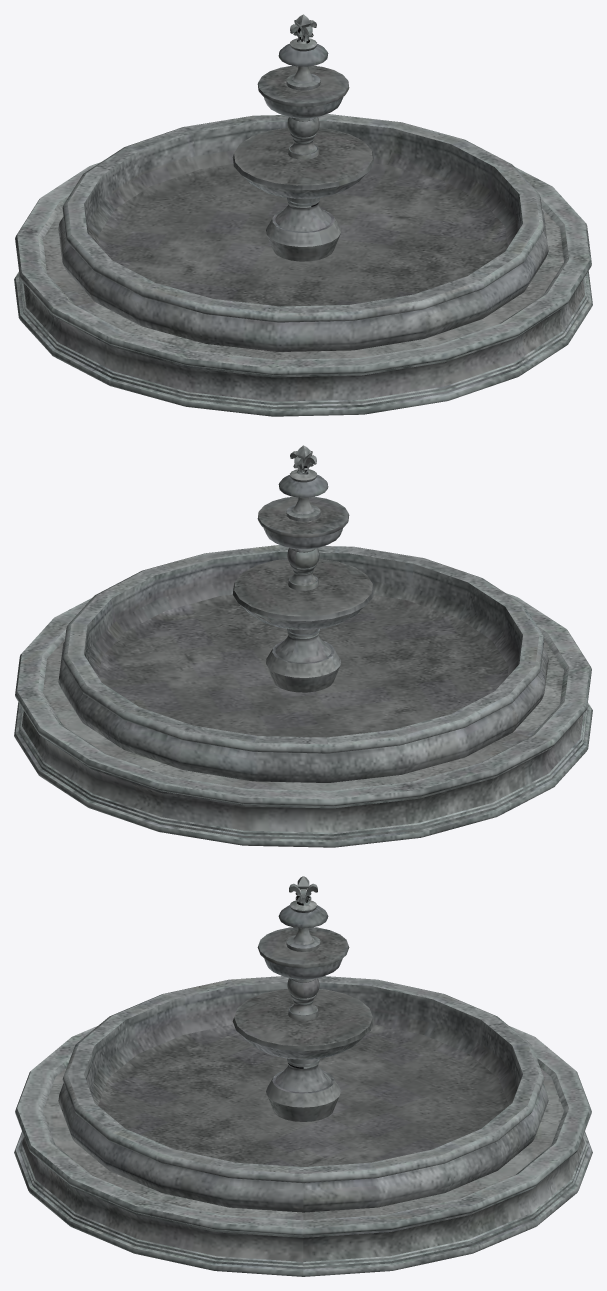
Rendered from fountain2.glb.
3 views of the same model, one above another, from view 1: azimuth 30°, elevation 25°; view 2: azimuth 150°, elevation 25°; view 3: azimuth 270°, elevation 25° (orthographic).
Visible parts, largest first — view 1: Fountain; view 2: Fountain; view 3: Fountain.
Part boxes in pixels (left/top/right/bottom): Fountain: left=14, top=14, right=592, bottom=416; Fountain: left=14, top=445, right=592, bottom=847; Fountain: left=14, top=876, right=592, bottom=1276.
Size of the model in its own units: 5 by 2.68 by 5.
Materials: 1 (1 with a texture image).
